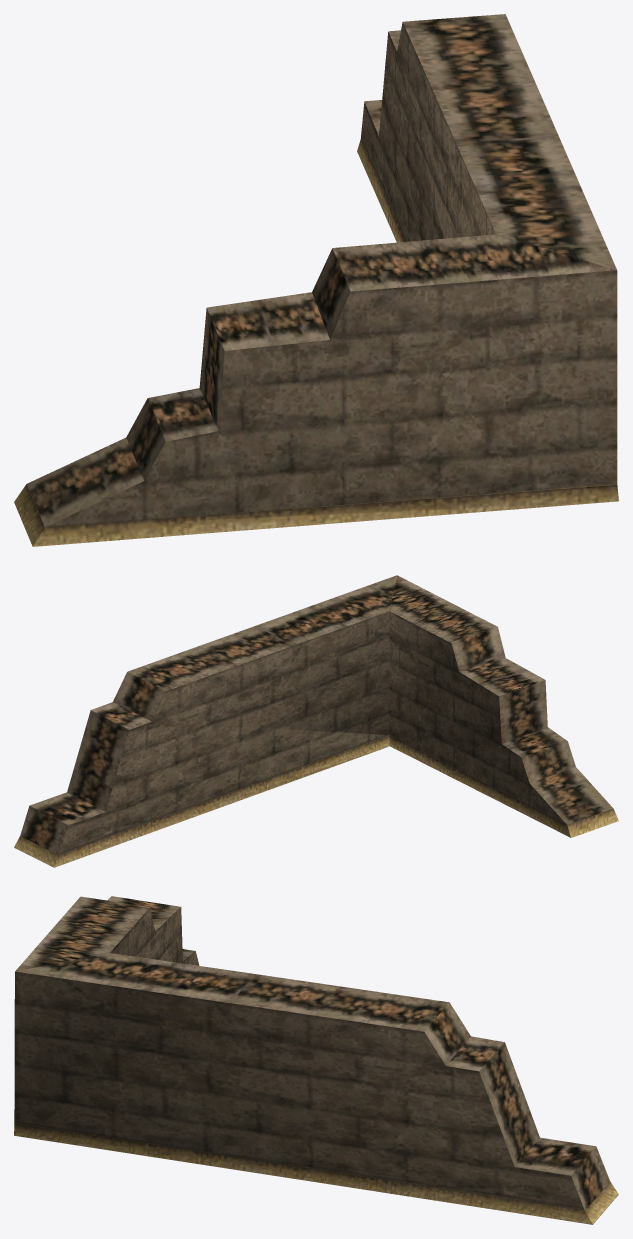
The model's file is M4_Wall_Ruins1.glb.
The picture shows the model from 3 angles, top to bottom: view 1: azimuth 30°, elevation 25°; view 2: azimuth 150°, elevation 25°; view 3: azimuth 270°, elevation 25°; orthographic projection. The views are drawn at different scales.
Visible parts, largest first — view 1: M4_WALL_RUINS1; view 2: M4_WALL_RUINS1; view 3: M4_WALL_RUINS1.
Boxes of the visible parts, box(x1,y1,x2,y2) form: M4_WALL_RUINS1: box(14, 14, 618, 546); M4_WALL_RUINS1: box(14, 575, 618, 867); M4_WALL_RUINS1: box(14, 896, 618, 1224).
Size of the model in its own units: 3.95 by 1.2 by 3.96.
Materials: 3 (3 with a texture image).
